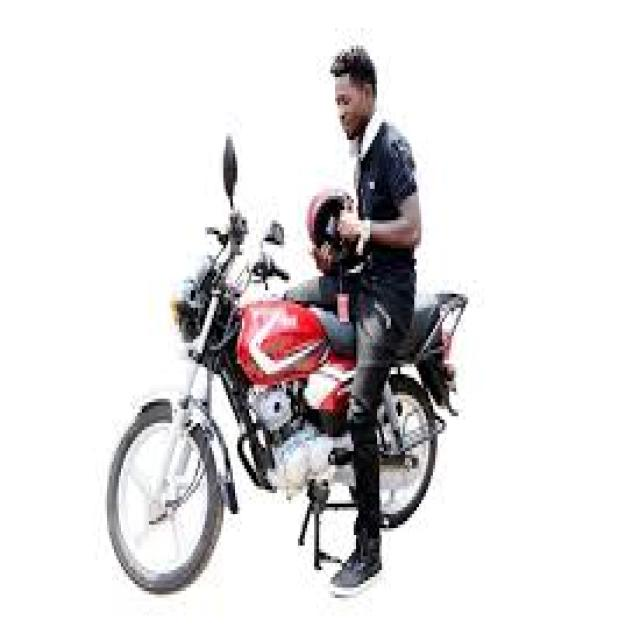bodaboda: (62, 130, 514, 628)
